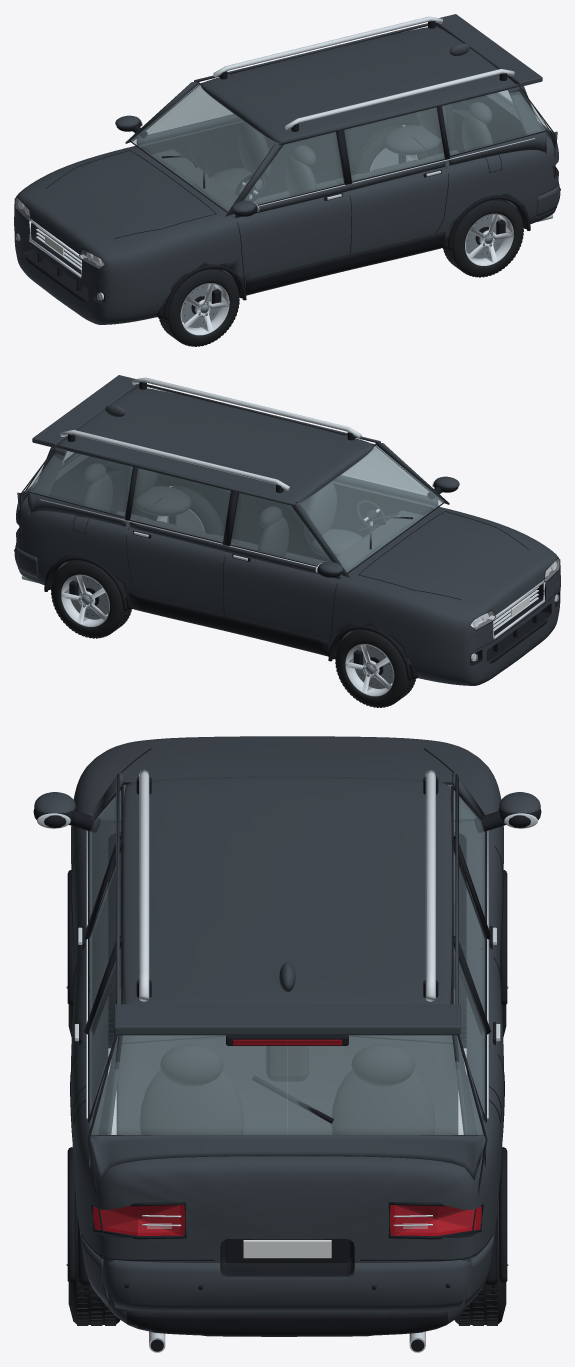
The model's file is suv.glb.
The picture shows the model from 3 angles, top to bottom: view 1: azimuth 30°, elevation 25°; view 2: azimuth 150°, elevation 25°; view 3: azimuth 270°, elevation 25°; orthographic projection. The views are drawn at different scales.
Visible parts, largest first — view 1: Watertight 14-station body shell, Crowned roof pressing, Raked laminated windshield, Rear side door glass, Rear quarter glass, Front side door glass, Formed lower door protective cladding, 107 reused Sculpted_tyre.002, 107 reused Sculpted_tyre, Roof spoiler lip, Front side door glass.001, Painted door glazing lower sill (+28 smaller); view 2: Watertight 14-station body shell, Crowned roof pressing, Raked laminated windshield, Rear side door glass.001, Rear quarter glass.001, Front side door glass.001, Formed lower door protective cladding.001, 107 reused Sculpted_tyre.003, 107 reused Sculpted_tyre.001, Roof spoiler lip, Front side door glass, Painted door glazing lower sill.001 (+28 smaller); view 3: Watertight 14-station body shell, Crowned roof pressing, Tailgate rear glazing, Formed painted rear bumper cover, Cabin carpet, Roof spoiler lip, Painted rear glazing lower surround, Sculpted rear lower bumper insert, Contoured seat back.002, Contoured seat back.003, Raised satin roof rail, Raised satin roof rail.001 (+32 smaller).
Boxes of the visible parts, left/top/right/bottom form: Watertight 14-station body shell: left=14, top=93, right=558, bottom=324; Crowned roof pressing: left=201, top=26, right=515, bottom=142; Raked laminated windshield: left=130, top=84, right=277, bottom=211; Rear side door glass: left=344, top=107, right=444, bottom=181; Rear quarter glass: left=442, top=90, right=545, bottom=155; Front side door glass: left=243, top=132, right=343, bottom=204; Formed lower door protective cladding: left=245, top=232, right=445, bottom=295; 107 reused Sculpted_tyre.002: left=444, top=199, right=523, bottom=276; 107 reused Sculpted_tyre: left=159, top=269, right=239, bottom=346; Roof spoiler lip: left=435, top=14, right=542, bottom=86; Front side door glass.001: left=146, top=85, right=232, bottom=134; Painted door glazing lower sill: left=235, top=158, right=445, bottom=217; Watertight 14-station body shell: left=16, top=454, right=560, bottom=685; Crowned roof pressing: left=59, top=387, right=373, bottom=503; Raked laminated windshield: left=297, top=445, right=444, bottom=572; Rear side door glass.001: left=130, top=468, right=230, bottom=542; Rear quarter glass.001: left=29, top=451, right=132, bottom=516; Front side door glass.001: left=231, top=493, right=331, bottom=565; Formed lower door protective cladding.001: left=129, top=593, right=329, bottom=656; 107 reused Sculpted_tyre.003: left=51, top=560, right=130, bottom=637; 107 reused Sculpted_tyre.001: left=335, top=629, right=415, bottom=707; Roof spoiler lip: left=32, top=375, right=139, bottom=447; Front side door glass: left=342, top=446, right=428, bottom=495; Painted door glazing lower sill.001: left=129, top=519, right=339, bottom=578; Watertight 14-station body shell: left=71, top=736, right=503, bottom=1335; Crowned roof pressing: left=122, top=776, right=452, bottom=1004; Tailgate rear glazing: left=91, top=1035, right=483, bottom=1134; Formed painted rear bumper cover: left=101, top=1256, right=473, bottom=1311; Cabin carpet: left=116, top=988, right=458, bottom=1134; Roof spoiler lip: left=114, top=1004, right=460, bottom=1035; Painted rear glazing lower surround: left=89, top=1135, right=485, bottom=1179; Sculpted rear lower bumper insert: left=127, top=1312, right=447, bottom=1336; Contoured seat back.002: left=139, top=1070, right=243, bottom=1134; Contoured seat back.003: left=331, top=1070, right=435, bottom=1134; Raised satin roof rail: left=139, top=769, right=149, bottom=1001; Raised satin roof rail.001: left=425, top=769, right=435, bottom=1001.
Size of the model in its own units: 4.76 by 1.83 by 2.24.
10 materials, 10 textured.
